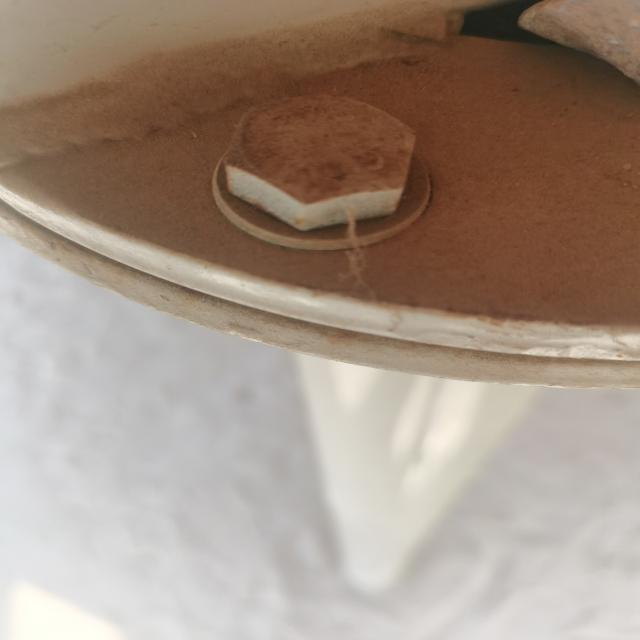bolt head: (204, 88, 426, 237)
